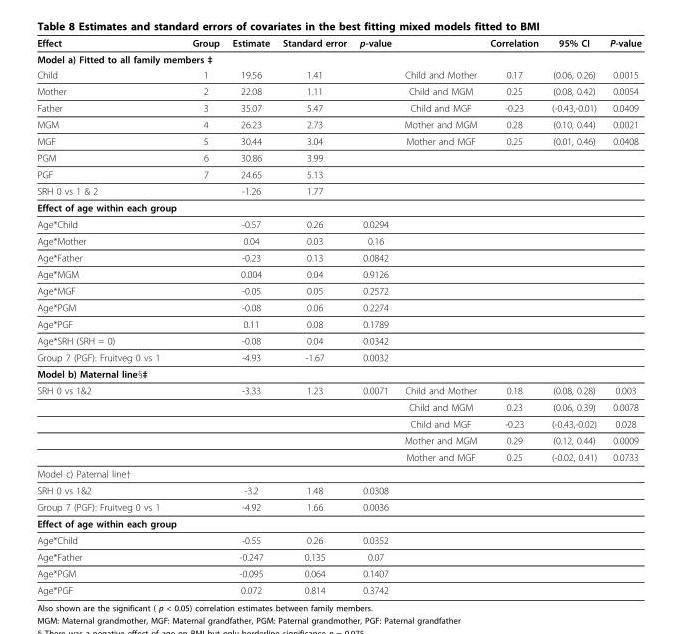table: (36, 36, 640, 595)
table column: (36, 36, 183, 595), (397, 36, 483, 595), (275, 36, 352, 595), (483, 36, 544, 595), (544, 36, 602, 595), (225, 36, 275, 595), (352, 36, 397, 595), (183, 36, 225, 595), (602, 36, 640, 595)
table column header: (36, 36, 640, 50)
table projected row header: (36, 198, 640, 215), (36, 514, 640, 531), (36, 50, 640, 66), (36, 365, 640, 381), (36, 465, 640, 481)
table row: (36, 82, 640, 99), (36, 115, 640, 132), (36, 132, 640, 149), (36, 165, 640, 182), (36, 198, 640, 215), (36, 215, 640, 232), (36, 248, 640, 265), (36, 265, 640, 282), (36, 298, 640, 315), (36, 315, 640, 332), (36, 348, 640, 365), (36, 381, 640, 398), (36, 398, 640, 415), (36, 431, 640, 448), (36, 448, 640, 465), (36, 481, 640, 498), (36, 514, 640, 531), (36, 531, 640, 548), (36, 564, 640, 581), (36, 50, 640, 66), (36, 66, 640, 82), (36, 99, 640, 115), (36, 149, 640, 165), (36, 182, 640, 198), (36, 232, 640, 248), (36, 282, 640, 298), (36, 332, 640, 348), (36, 365, 640, 381), (36, 415, 640, 431), (36, 465, 640, 481), (36, 498, 640, 514), (36, 548, 640, 564), (36, 36, 640, 50), (36, 581, 640, 595)
table spanning cell: (36, 381, 183, 465)
